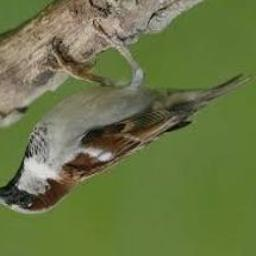Sparrow: (0, 22, 256, 215)
